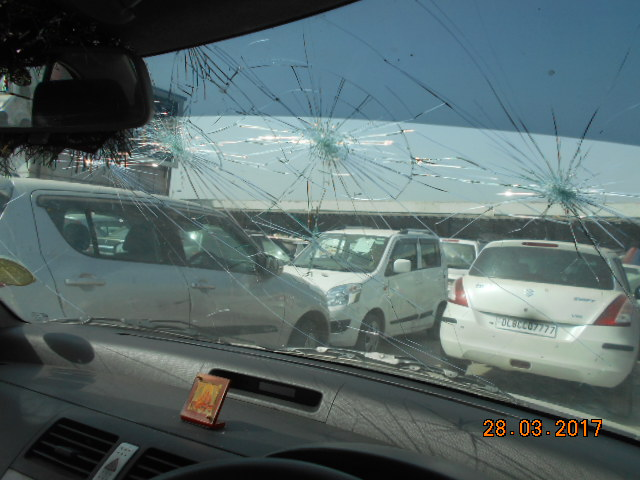Shatter: (478, 134, 630, 232), (251, 80, 385, 173), (154, 114, 226, 213), (181, 45, 235, 87)
